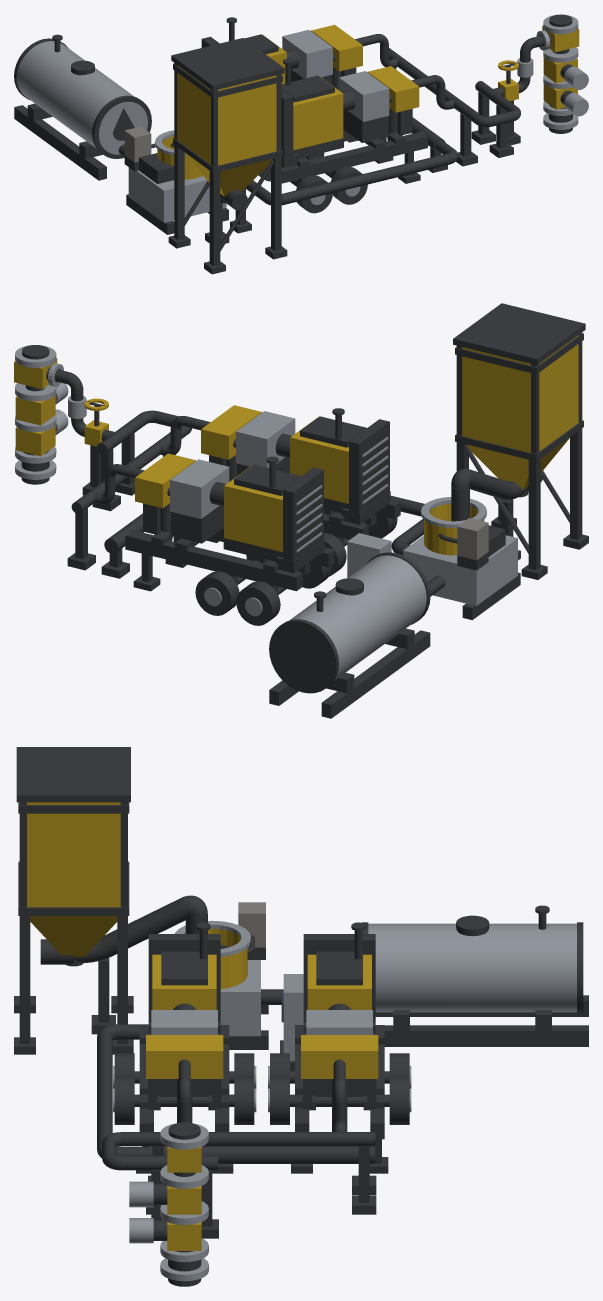
File: fracking_oil_well_lvl1.glb
The picture shows the model from 3 angles, top to bottom: view 1: azimuth 30°, elevation 25°; view 2: azimuth 150°, elevation 25°; view 3: azimuth 270°, elevation 25°; orthographic projection. The views are drawn at different scales.
Parts seen in each view (by area): view 1: fracking_oil_well; view 2: fracking_oil_well; view 3: fracking_oil_well.
Part boxes in pixels (x1,y1,x2,y2): fracking_oil_well: (14,14,588,274); fracking_oil_well: (14,303,588,718); fracking_oil_well: (14,747,588,1286).
Bounding box in the file's own units: 0.8297 × 0.349 × 0.7048.
